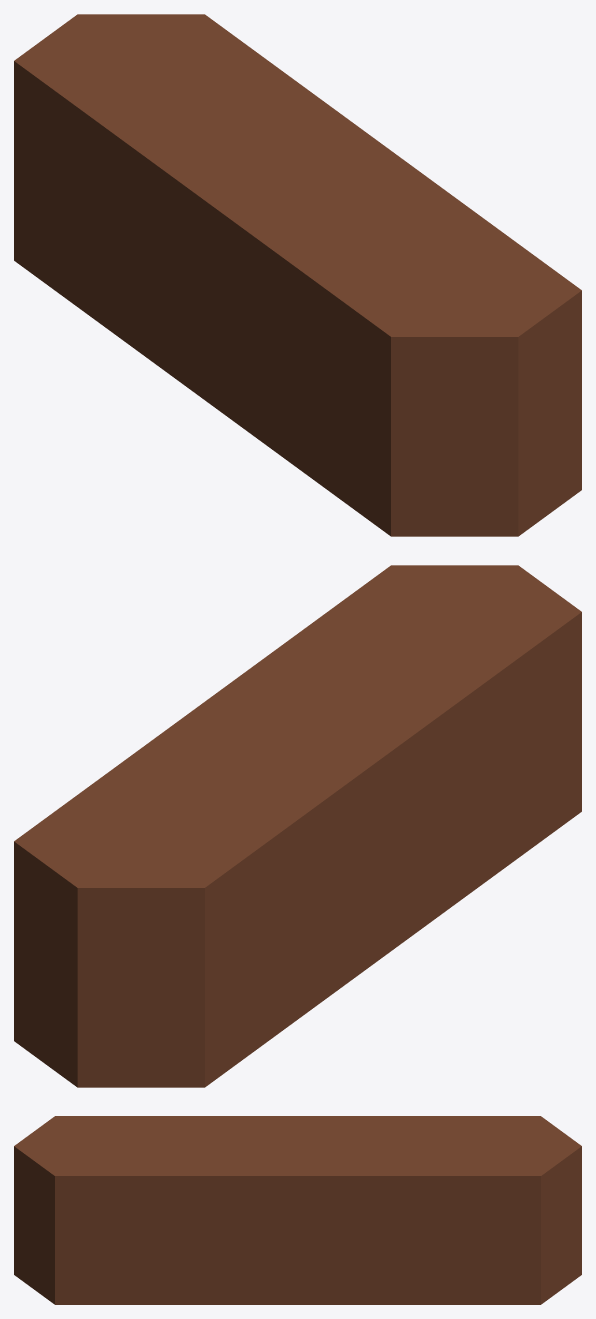
File: _wooden_wall_5.glb
3 views of the same model, one above another, from view 1: azimuth 30°, elevation 25°; view 2: azimuth 150°, elevation 25°; view 3: azimuth 270°, elevation 25° (orthographic). The views are drawn at different scales.
Parts seen in each view (by area): view 1: WoodenWallLong; view 2: WoodenWallLong; view 3: WoodenWallLong.
Part boxes in pixels (x1,y1,x2,y2): WoodenWallLong: (14,14,581,536); WoodenWallLong: (14,565,581,1087); WoodenWallLong: (14,1116,581,1304).
Bounding box in the file's own units: 0.5 × 0.5 × 2.
1 material, 1 textured.
